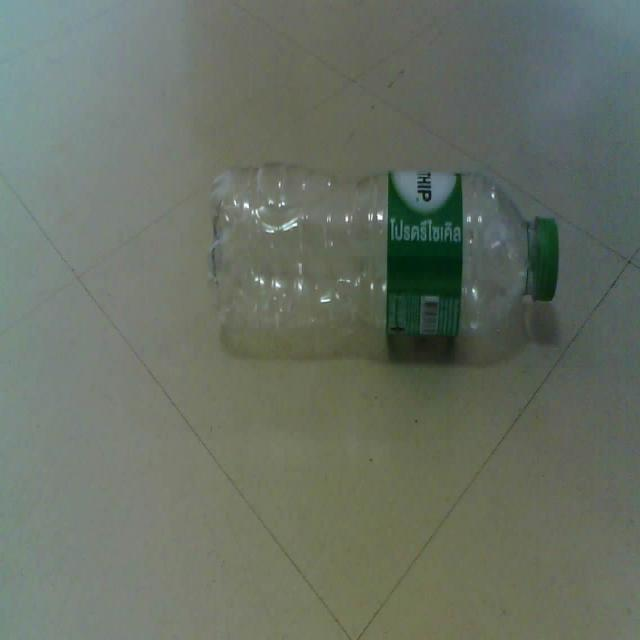empty: (208, 164, 558, 355)
